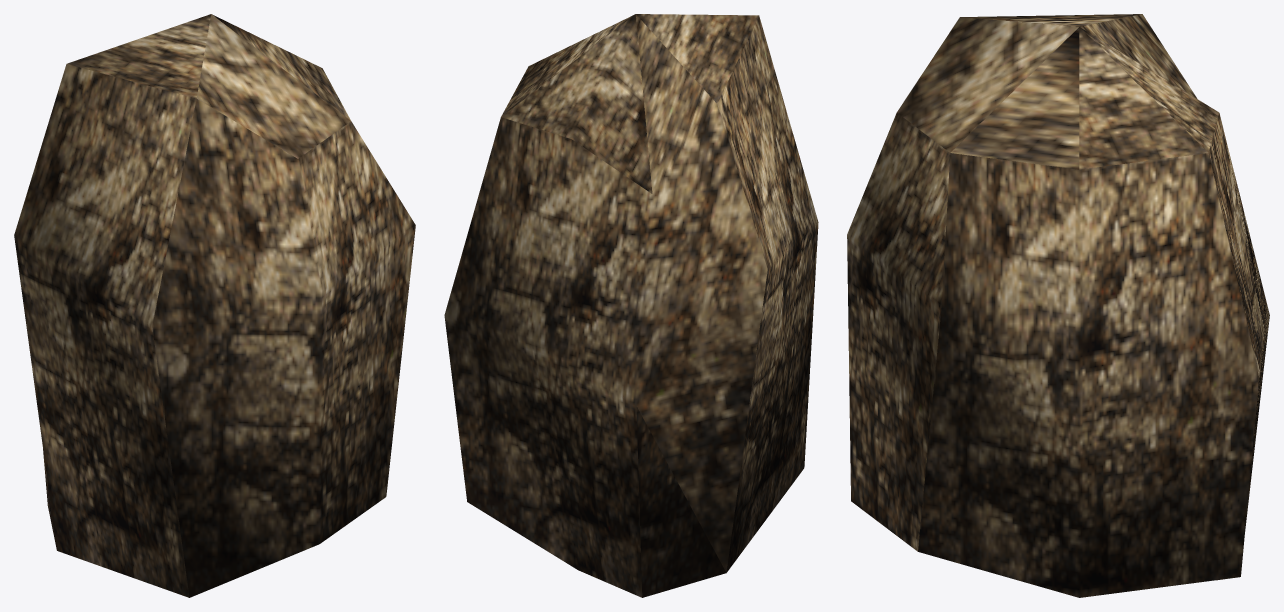
The picture shows the model from 3 angles, left to right: view 1: azimuth 30°, elevation 25°; view 2: azimuth 150°, elevation 25°; view 3: azimuth 270°, elevation 25°; orthographic projection. The views are drawn at different scales.
Parts seen in each view (by area): view 1: SMDImport; view 2: SMDImport; view 3: SMDImport.
Boxes of the visible parts, bbox=[...] form: SMDImport: bbox=[14, 14, 415, 597]; SMDImport: bbox=[444, 14, 818, 597]; SMDImport: bbox=[847, 14, 1269, 597].
Size of the model in its own units: 134 by 202 by 139.
